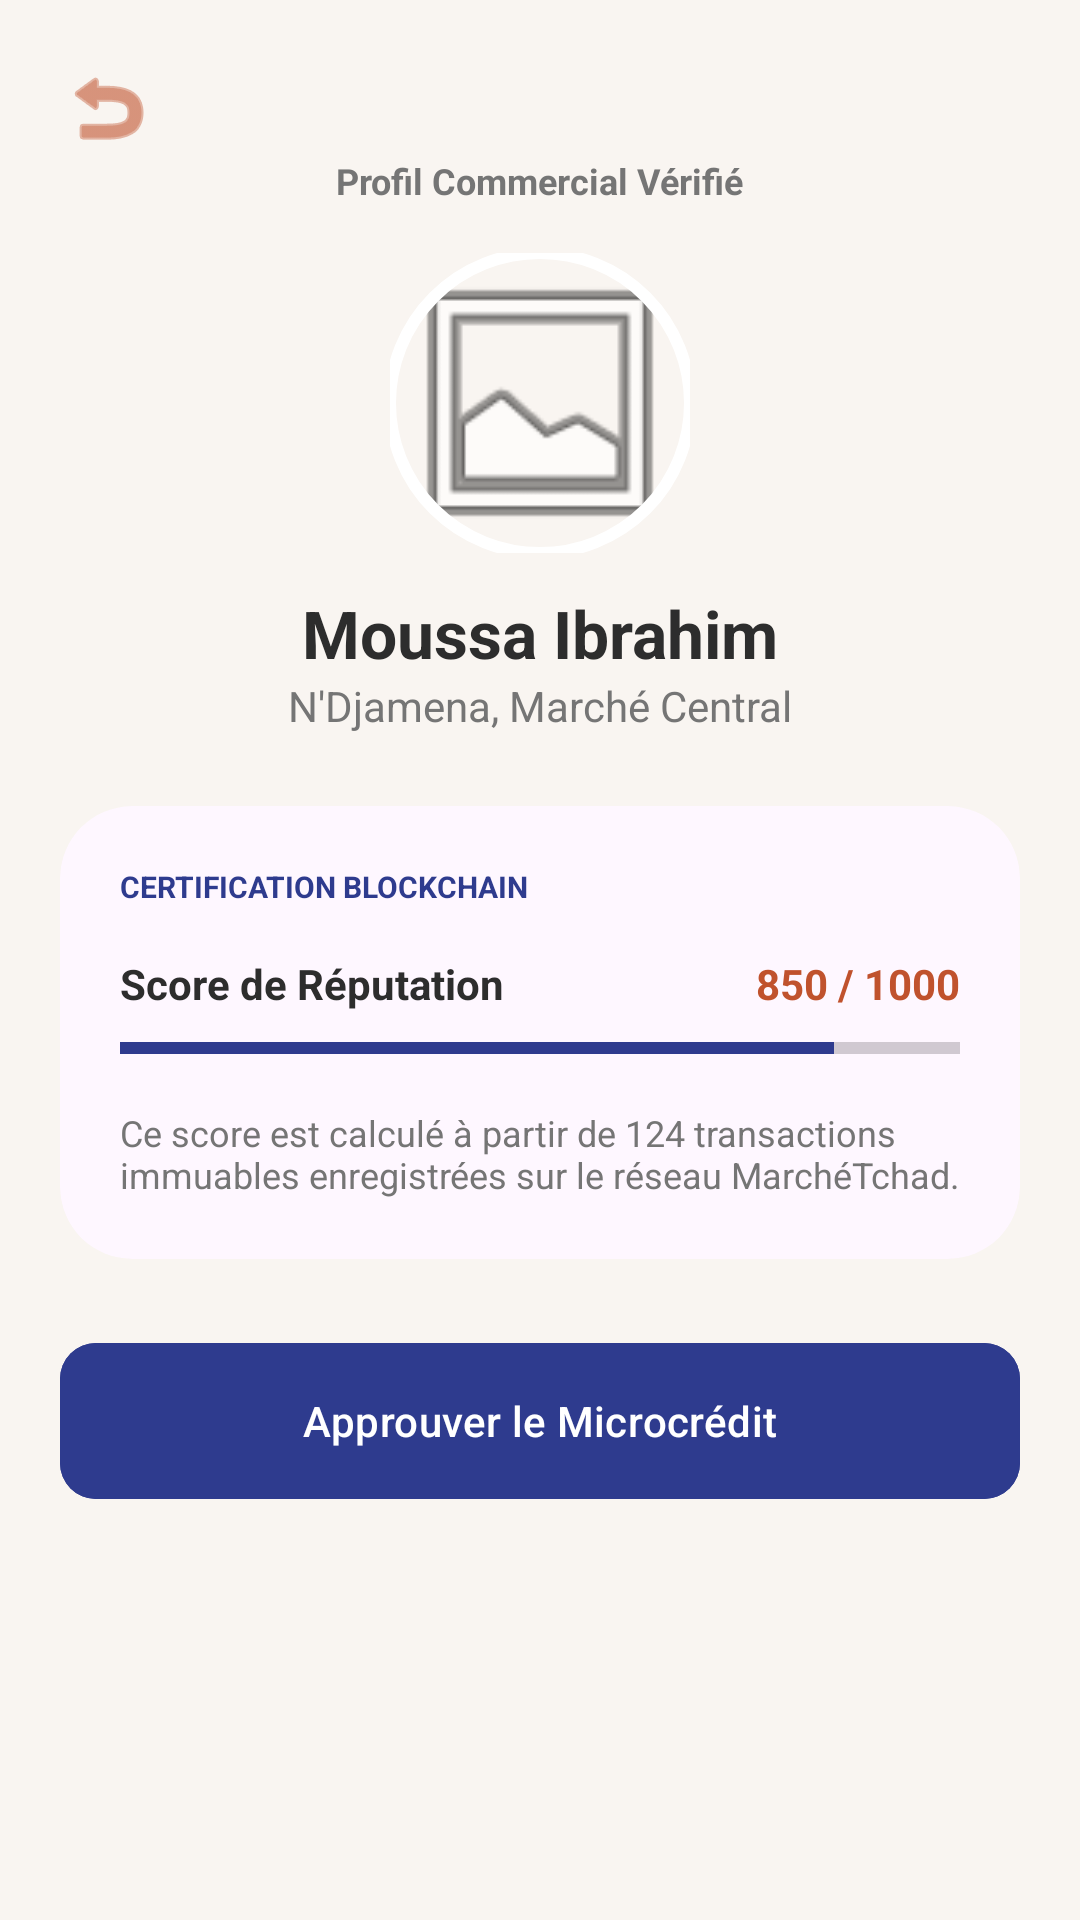

Named icons in this screenshot (1080px×1920px) and their centers, [x,y]:
gallery: [540,403]
revert: [109,108]
